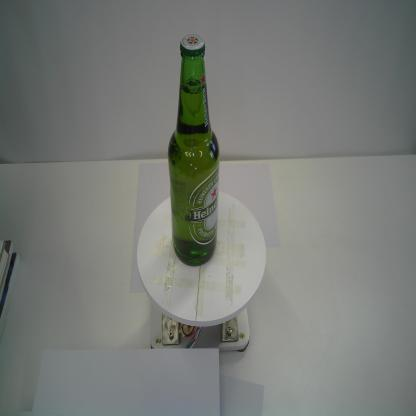Alcohol: (164, 30, 223, 268)
